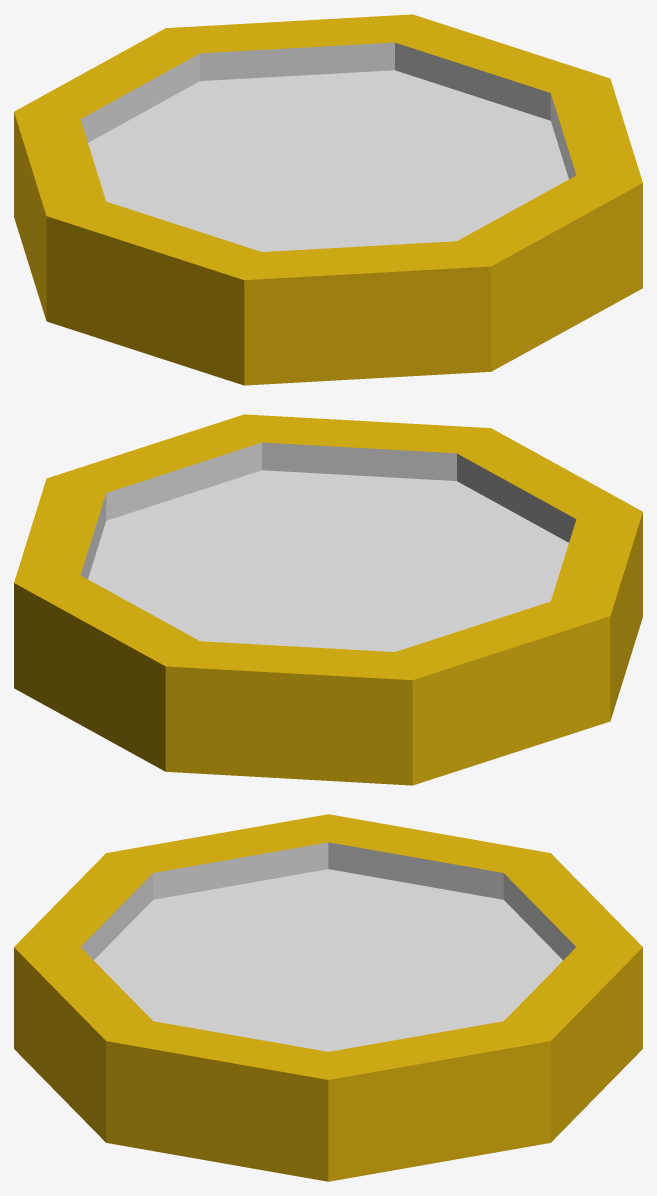
Rendered from Compass.fbx.
3 views of the same model, one above another, from view 1: azimuth 30°, elevation 25°; view 2: azimuth 150°, elevation 25°; view 3: azimuth 270°, elevation 25° (orthographic). The views are drawn at different scales.
Visible parts, largest first — view 1: Compass; view 2: Compass; view 3: Compass.
Part boxes in pixels (x1,y1,x2,y2): Compass: (14,14,642,385); Compass: (14,414,642,785); Compass: (14,814,642,1181).
Bounding box in the file's own units: 46.27 × 8.26 × 46.27.
